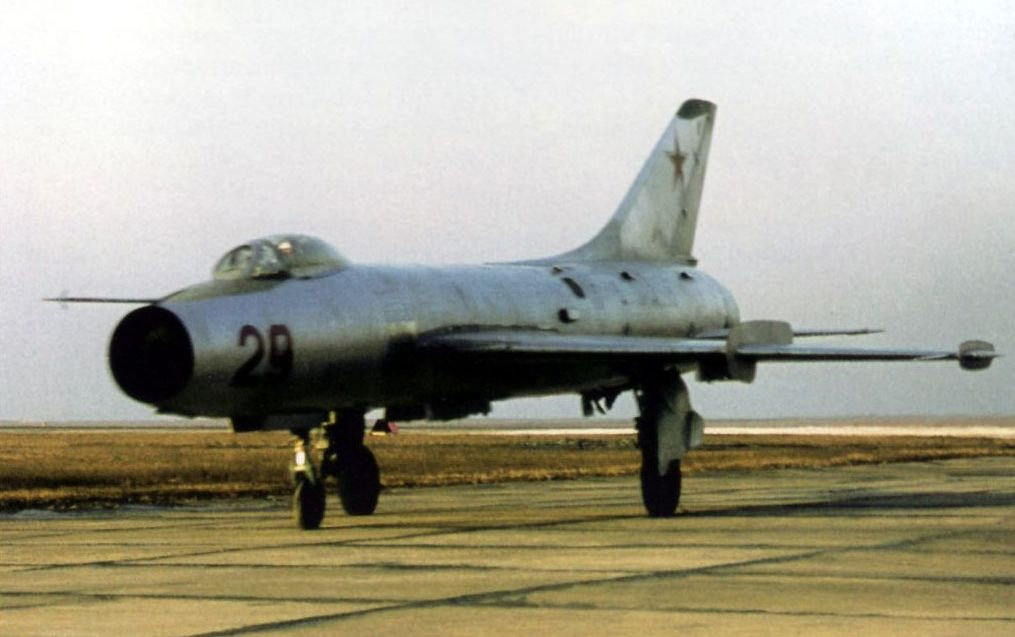Aeronef_militaire: (30, 93, 1010, 537)
